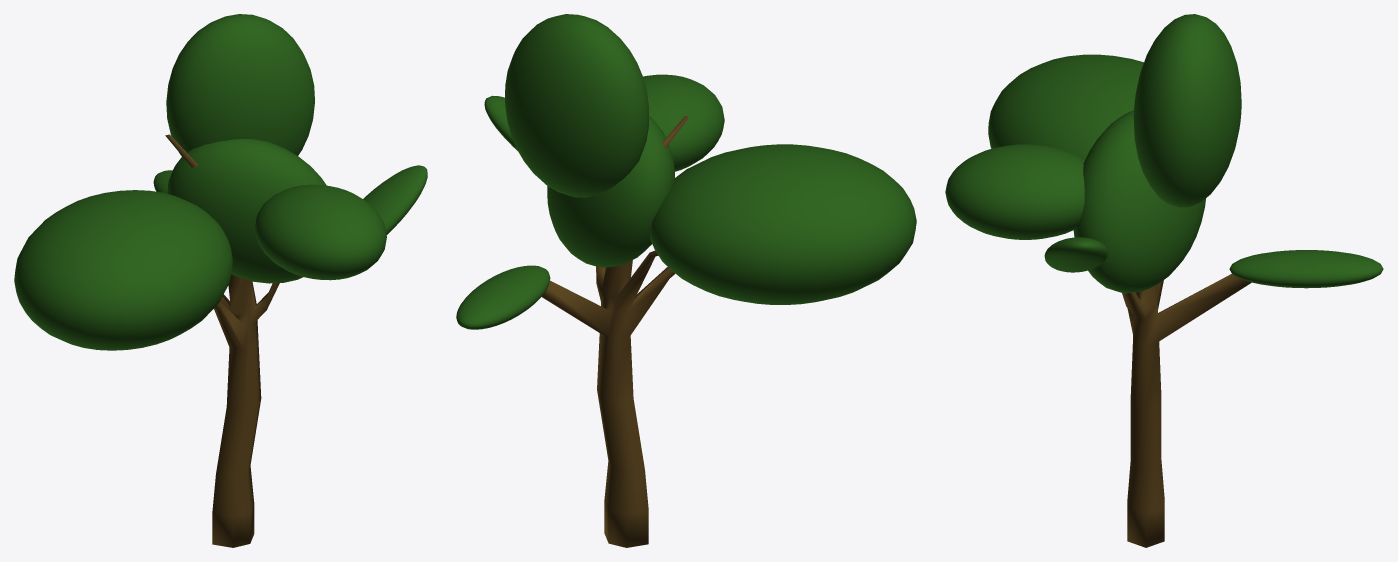
The model's file is arbre_vivant.fbx.
3 renders of one model, left to right at view 1: azimuth 30°, elevation 25°; view 2: azimuth 150°, elevation 25°; view 3: azimuth 270°, elevation 25°, orthographic. The views are drawn at different scales.
Parts seen in each view (by area): view 1: Sphère.003, Sphère.002, Sphère.004, Cube, Sphère.001, Sphère.005; view 2: Sphère.003, Sphère.002, Cube, Sphère.004, Sphère.001, Sphère, Sphère.005; view 3: Sphère.002, Sphère.004, Sphère.003, Sphère.001, Cube, Sphère, Sphère.005.
Boxes of the visible parts, <box> form: Sphère.003: <box>14,190,232,350</box>; Sphère.002: <box>166,14,314,156</box>; Sphère.004: <box>167,139,326,283</box>; Cube: <box>165,134,279,547</box>; Sphère.001: <box>255,184,386,280</box>; Sphère.005: <box>363,165,427,234</box>; Sphère.003: <box>649,144,916,304</box>; Sphère.002: <box>505,14,648,197</box>; Cube: <box>541,116,688,547</box>; Sphère.004: <box>547,115,674,267</box>; Sphère.001: <box>643,74,724,171</box>; Sphère: <box>456,265,550,329</box>; Sphère.005: <box>484,95,517,150</box>; Sphère.002: <box>1133,14,1241,207</box>; Sphère.004: <box>1073,110,1205,293</box>; Sphère.003: <box>988,54,1143,159</box>; Sphère.001: <box>945,144,1084,239</box>; Cube: <box>1122,274,1251,547</box>; Sphère: <box>1229,250,1383,288</box>; Sphère.005: <box>1044,237,1107,272</box>.
Size of the model in its own units: 2591 by 3139 by 2356.
